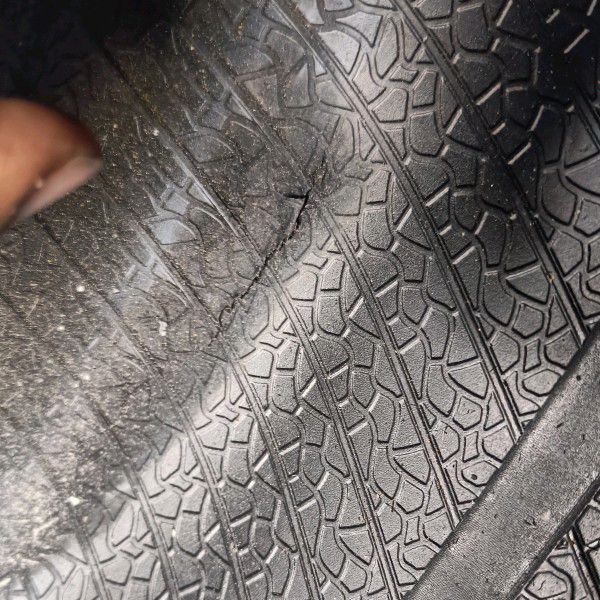CBU: (200, 148, 331, 351)
